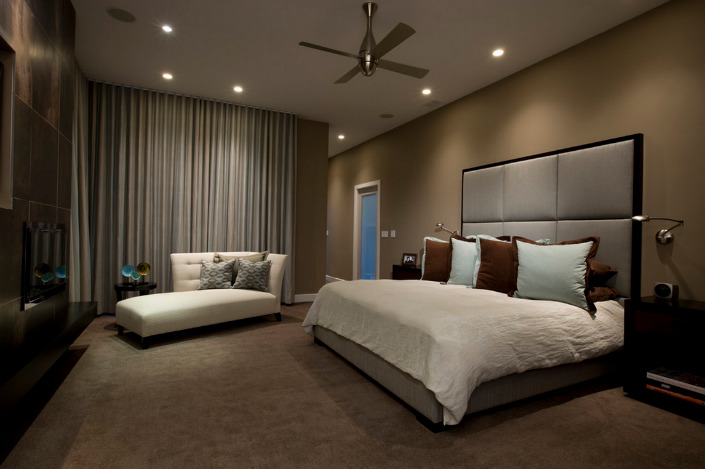chairs: (111, 246, 296, 348)
